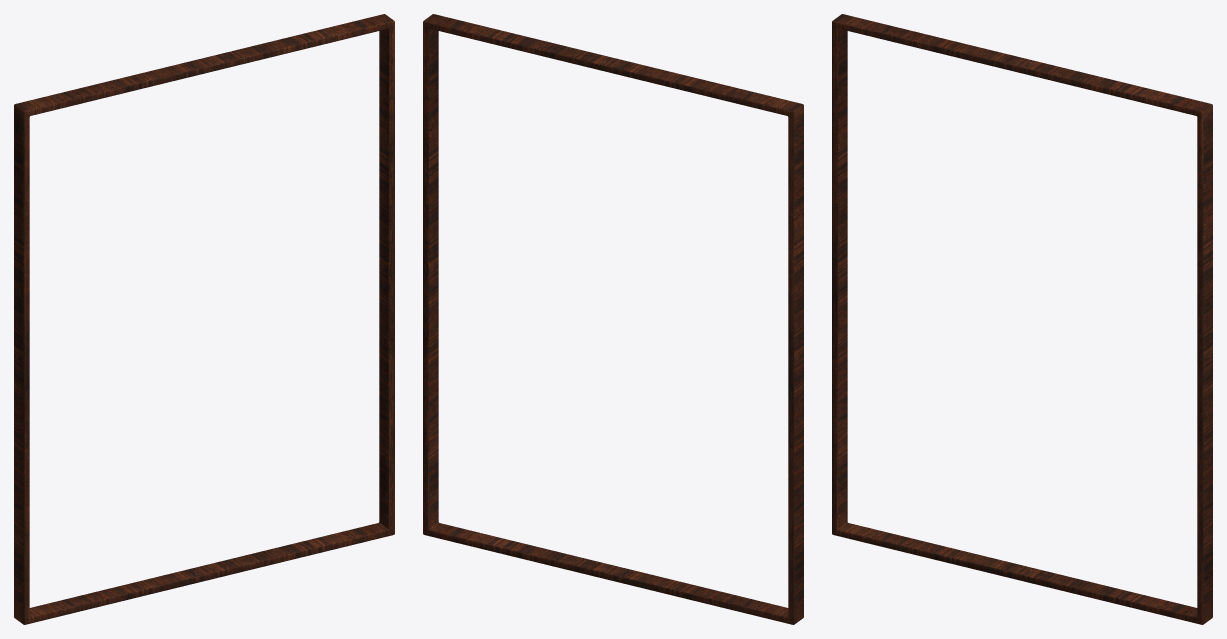
File: wood.glb
The picture shows the model from 3 angles, left to right: view 1: azimuth 30°, elevation 25°; view 2: azimuth 150°, elevation 25°; view 3: azimuth 330°, elevation 25°; orthographic projection.
Visible parts, largest first — view 1: Object_18; view 2: Object_18; view 3: Object_18.
Boxes of the visible parts, <box> form: Object_18: <box>14,14,394,624</box>; Object_18: <box>423,14,803,624</box>; Object_18: <box>832,14,1212,624</box>.
Size of the model in its own units: 4.38 by 5.79 by 0.2118.
1 material, 1 textured.
